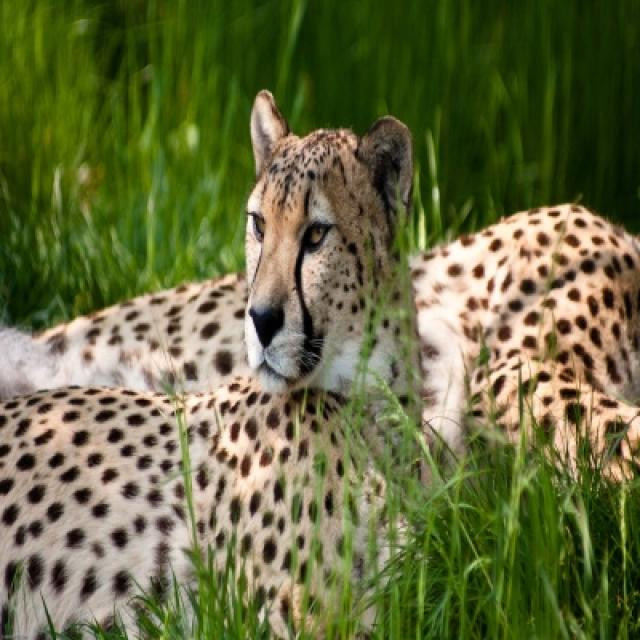Cheetah: (66, 91, 411, 392)
